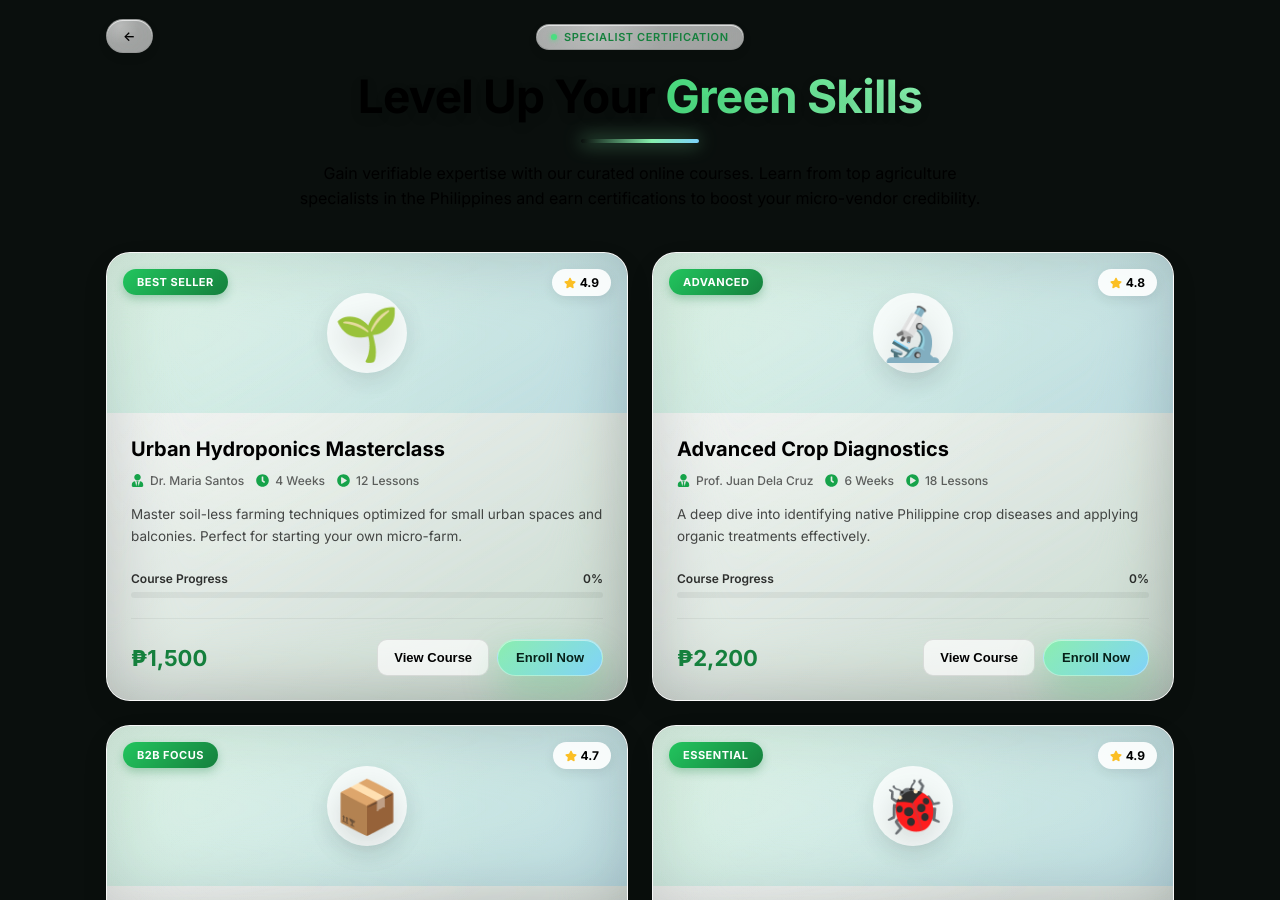
Test case: SpecialistCertification Component › opens the course details modal when 'View Course' is clicked
The image size is (1280, 900).
Expected: the text "Course Details" is not shown
Click the button "View Course" in the row of "₱1,500": (433, 658) [377, 639, 489, 676]
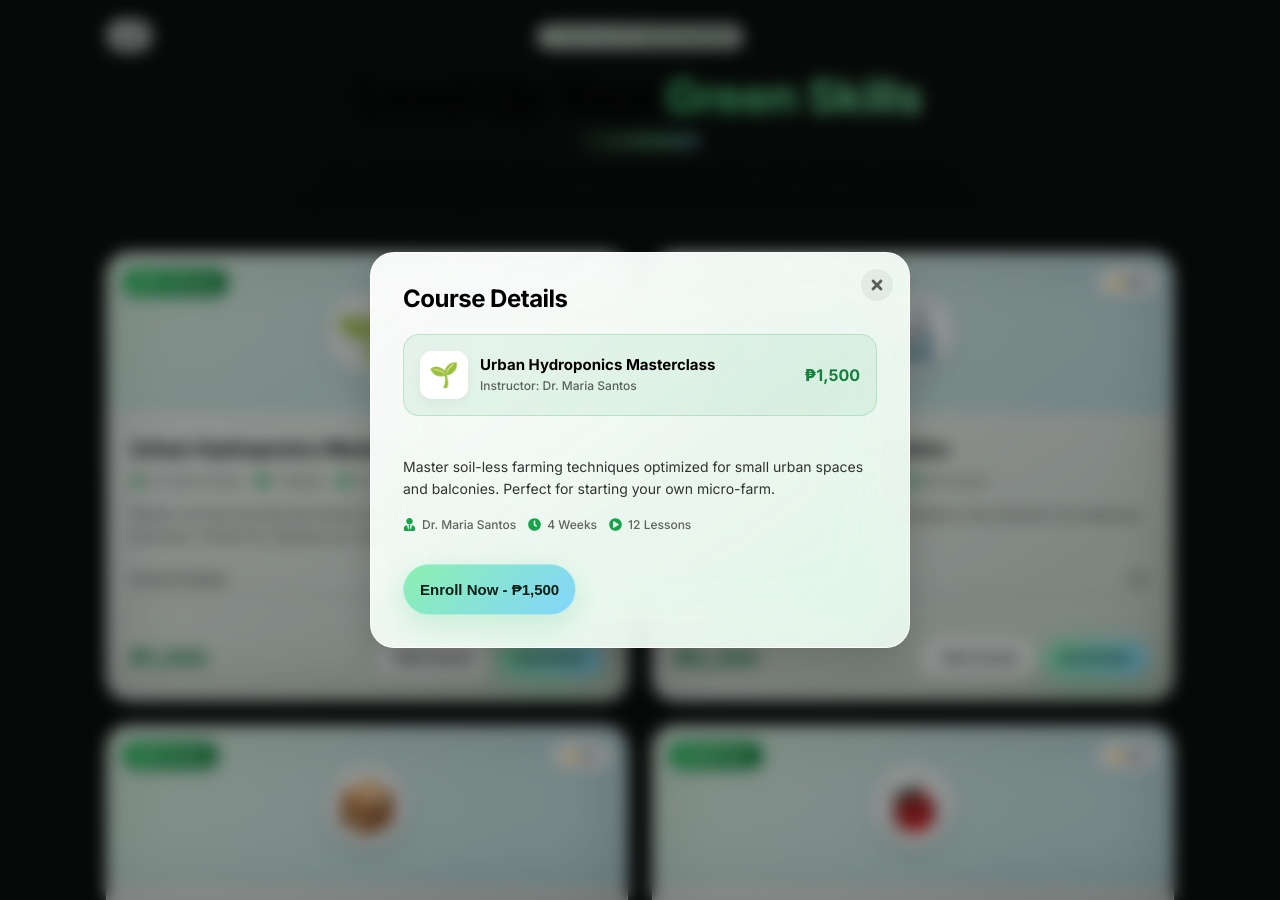
Expected: the heading "Course Details" is shown, [403, 284, 568, 313]
Expected: the text "Instructor: Dr. Maria Santos" is shown, [480, 378, 637, 394]
